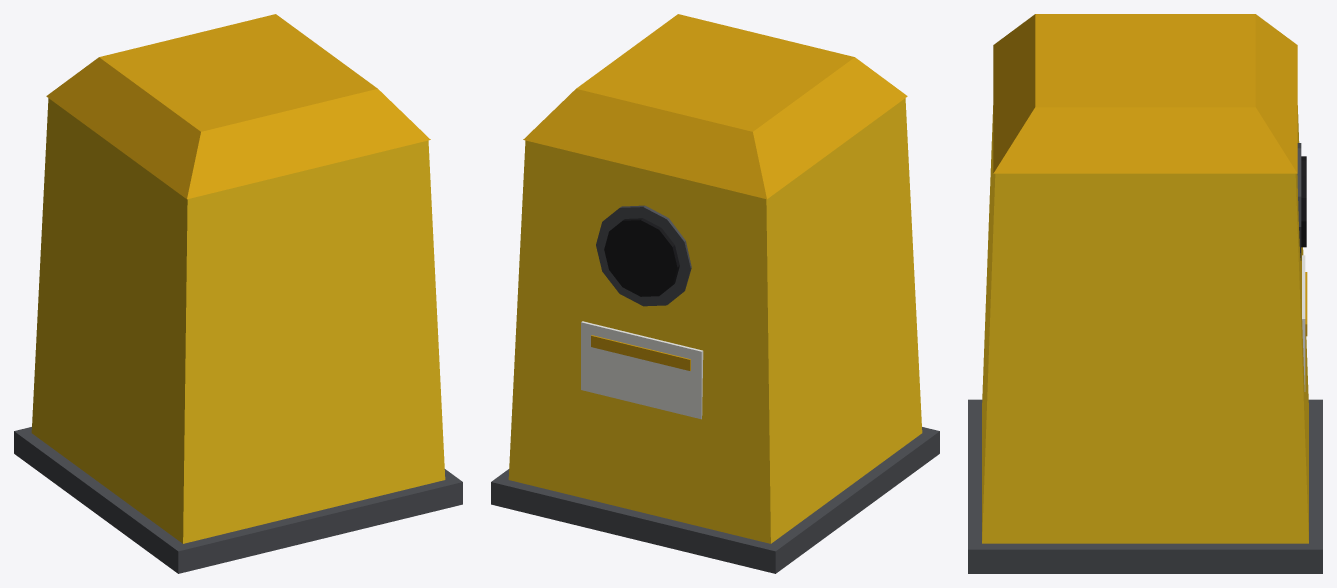
Rendered from Ecoponto_Yellow.fbx.
3 views of the same model, side by side, from view 1: azimuth 30°, elevation 25°; view 2: azimuth 150°, elevation 25°; view 3: azimuth 270°, elevation 25° (orthographic). The views are drawn at different scales.
Visible parts, largest first — view 1: Ecoponto_Yellow; view 2: Ecoponto_Yellow; view 3: Ecoponto_Yellow.
Part boxes in pixels (x1,y1,x2,y2): Ecoponto_Yellow: [14, 14, 462, 573]; Ecoponto_Yellow: [491, 14, 939, 573]; Ecoponto_Yellow: [968, 14, 1322, 573].
Size of the model in its own units: 1.32 by 1.8 by 1.32.
